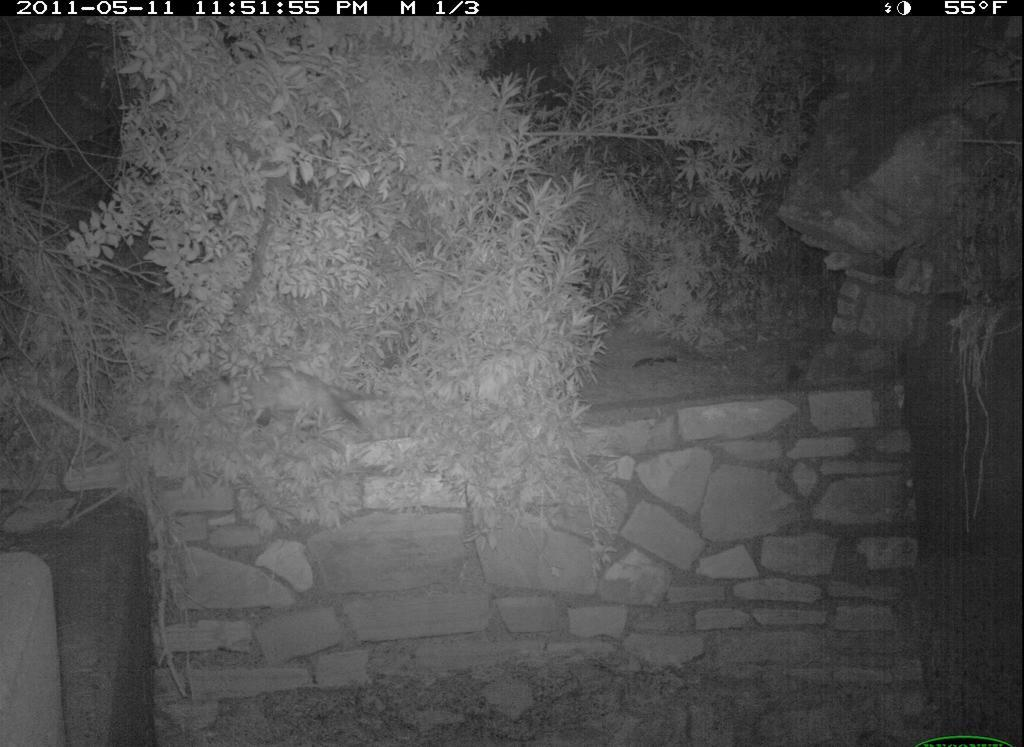opossum: (193, 360, 410, 452)
